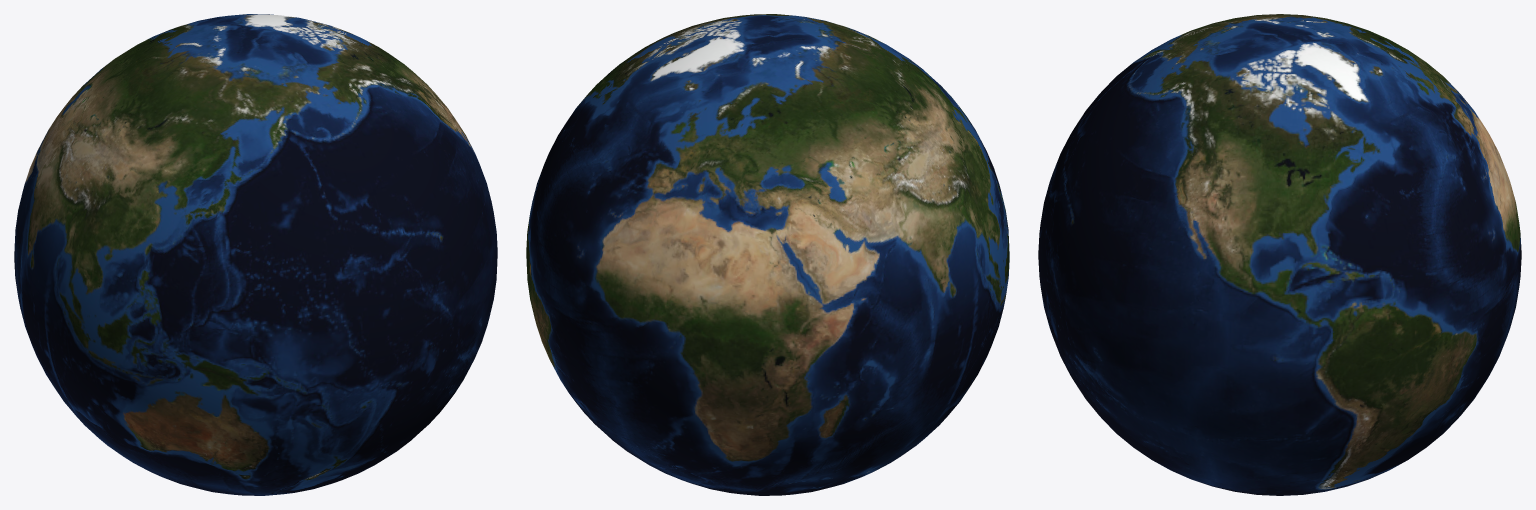
The model's file is earth.dae.
3 views of the same model, side by side, from view 1: azimuth 30°, elevation 25°; view 2: azimuth 150°, elevation 25°; view 3: azimuth 270°, elevation 25° (orthographic).
Parts seen in each view (by area): view 1: Cube_002; view 2: Cube_002; view 3: Cube_002.
Boxes of the visible parts, <box> form: Cube_002: <box>14,14,497,495</box>; Cube_002: <box>526,14,1009,495</box>; Cube_002: <box>1038,14,1521,495</box>.
Size of the model in its own units: 300 by 299 by 300.
1 material, 1 textured.
